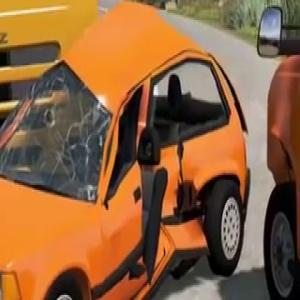severe: (0, 0, 253, 300)
